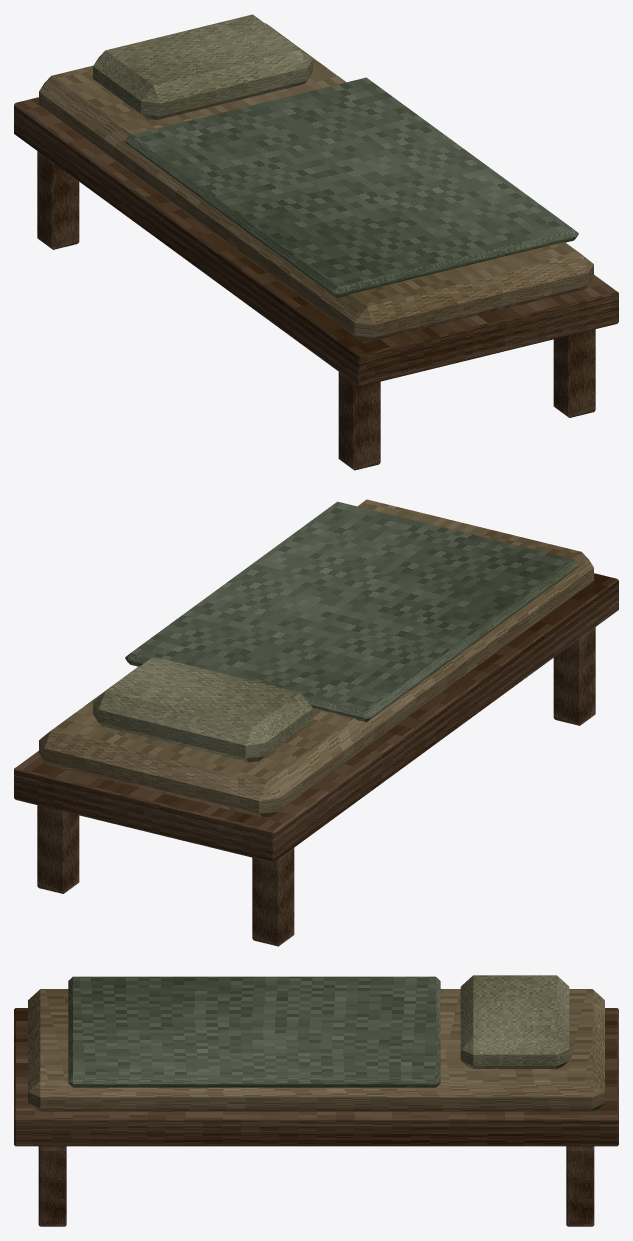
Rendered from catre.glb.
3 views of the same model, one above another, from view 1: azimuth 30°, elevation 25°; view 2: azimuth 150°, elevation 25°; view 3: azimuth 270°, elevation 25° (orthographic). The views are drawn at different scales.
Visible parts, largest first — view 1: catre_mesh; view 2: catre_mesh; view 3: catre_mesh.
Part boxes in pixels (box(x1,y1,x2,y2)): catre_mesh: box(14, 14, 618, 470); catre_mesh: box(14, 499, 618, 946); catre_mesh: box(14, 975, 618, 1226).
Size of the model in its own units: 0.85 by 0.6 by 1.95.
Materials: 4 (4 with a texture image).
